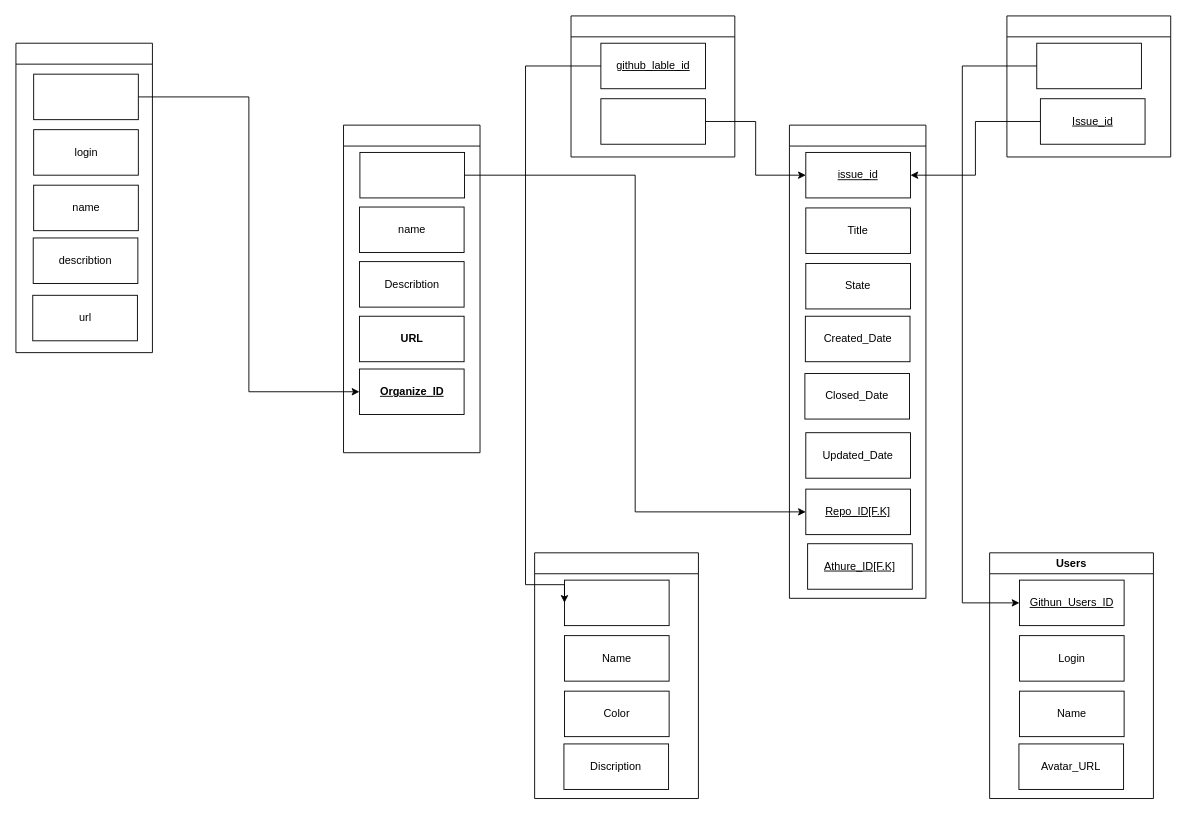
Image size: 1187x814. Some labels were removed from this diagram. Here are the shapes that lost their labels. From the top down, the box of each, then its label:
(1036, 42, 1141, 89): users_id
(33, 73, 138, 120): githun_organiz_id
(570, 15, 735, 157): Issues_Lables
(1006, 15, 1171, 157): issue_assignees
(600, 98, 706, 144): github_issue_id
(359, 152, 465, 198): githun_reposit_id
(15, 42, 152, 353): Organaization
(343, 124, 480, 453): Repositories
(789, 124, 926, 598): Issues
(564, 579, 669, 626): Githun_Label_ID
(534, 552, 698, 799): Labels
